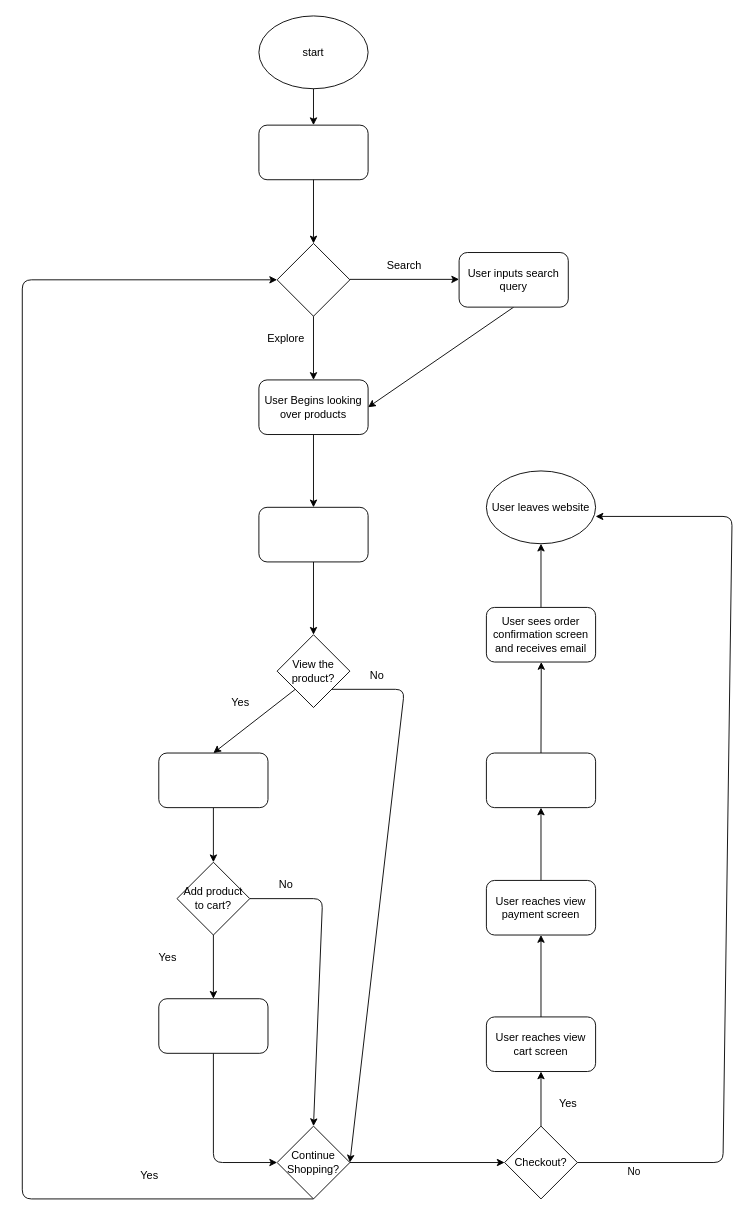
The diagram is 755 pixels wide and 1222 high, and some of its shapes have lost their labels. Here are the shapes that lost their labels. From the top down, the centre of each, then its label:
At point (313, 152): "User enters website".
At point (313, 279): "Search or explore products?".
At point (313, 534): "User comes across a specific product".
At point (213, 780): "Product's webpage opens".
At point (540, 780): "User enters payment info and pays".
At point (213, 1025): "User receives added to cart confirmation".
